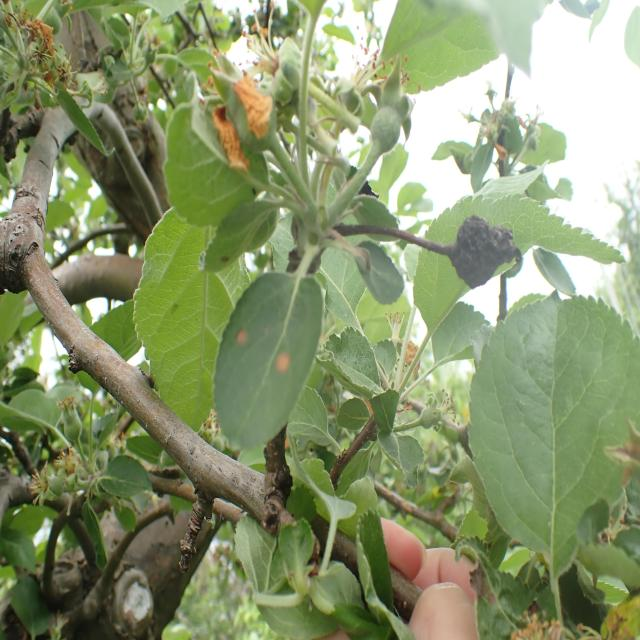Black Rot: (230, 305, 252, 364), (269, 349, 297, 386)
